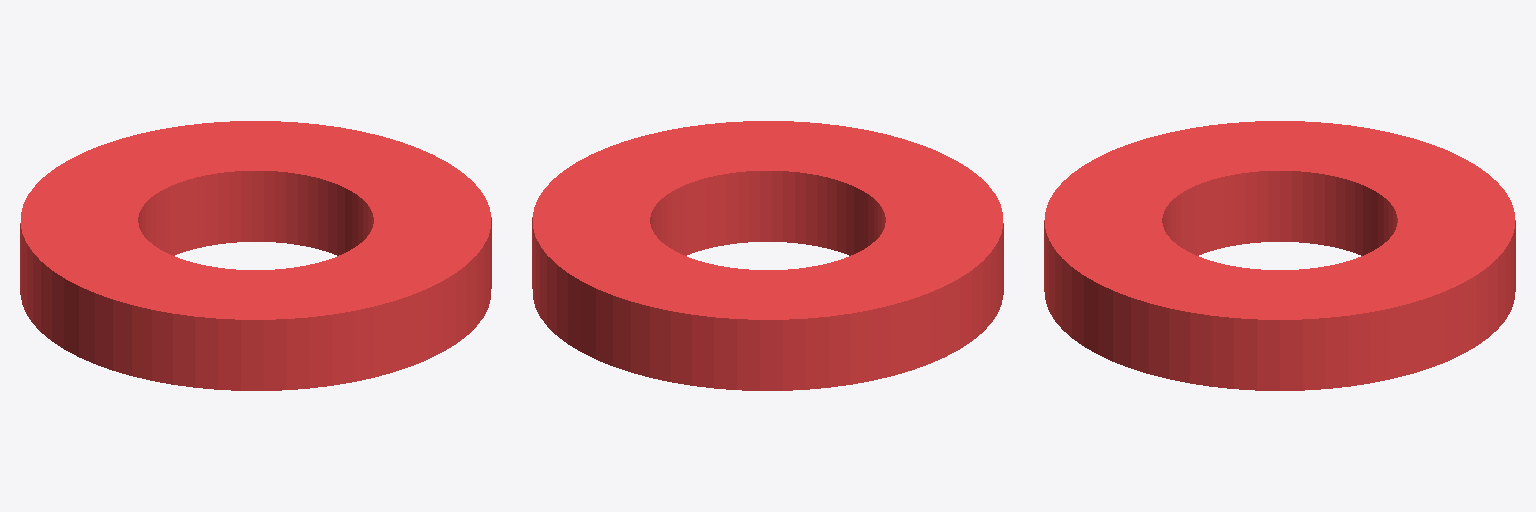
URDF robot description (disk0.urdf):
<?xml version="0.0" ?>
<robot name="disk0.urdf">
  <link name="baseLink">
    <contact>
      <lateral_friction value="1.0"/>
      <rolling_friction value="0.0001"/>
      <inertia_scaling value="3.0"/>
    </contact>
    <inertial>
      <origin rpy="0 0 0" xyz="0 0 0"/>
       <mass value=".1"/>
       <inertia ixx="1" ixy="0" ixz="0" iyy="1" iyz="0" izz="1"/>
    </inertial>
    <visual>
      <origin rpy="0 0 0" xyz="0 0 0"/>
      <geometry>
         <mesh filename="disk0.obj" scale="0.001 0.001 0.001"/>
      </geometry>
      <material name="red">
        <color rgba="1 0.3412 0.3490 1"/>
      </material>
    </visual>
    <collision>
      <origin rpy="0 0 0" xyz="0 0 0"/>
      <geometry>
	 	    <mesh filename="disk0.obj" scale="0.001 0.001 0.001"/>
      </geometry>
    </collision>
  </link>
</robot>

--- What the picture shows (computed from the rendered views, not written in the file) ---
The picture shows the robot from 3 angles, left to right: view 1: azimuth 30°, elevation 25°; view 2: azimuth 150°, elevation 25°; view 3: azimuth 270°, elevation 25°; orthographic projection.
Model disk0.urdf with 1 links and 0 joints (none), rooted at baseLink, posed every joint at zero.
Links seen in each view (by area): view 1: baseLink; view 2: baseLink; view 3: baseLink.
Link boxes in pixels (x1=…): baseLink: x1=20, y1=121, x2=491, y2=390; baseLink: x1=532, y1=121, x2=1003, y2=390; baseLink: x1=1044, y1=121, x2=1515, y2=390.
Bounding box of the posed robot: 0.06 × 0.06 × 0.01 m (x, y, z).
Meshes: 1 distinct files referenced, 1 mesh visuals loaded (1 OBJ).